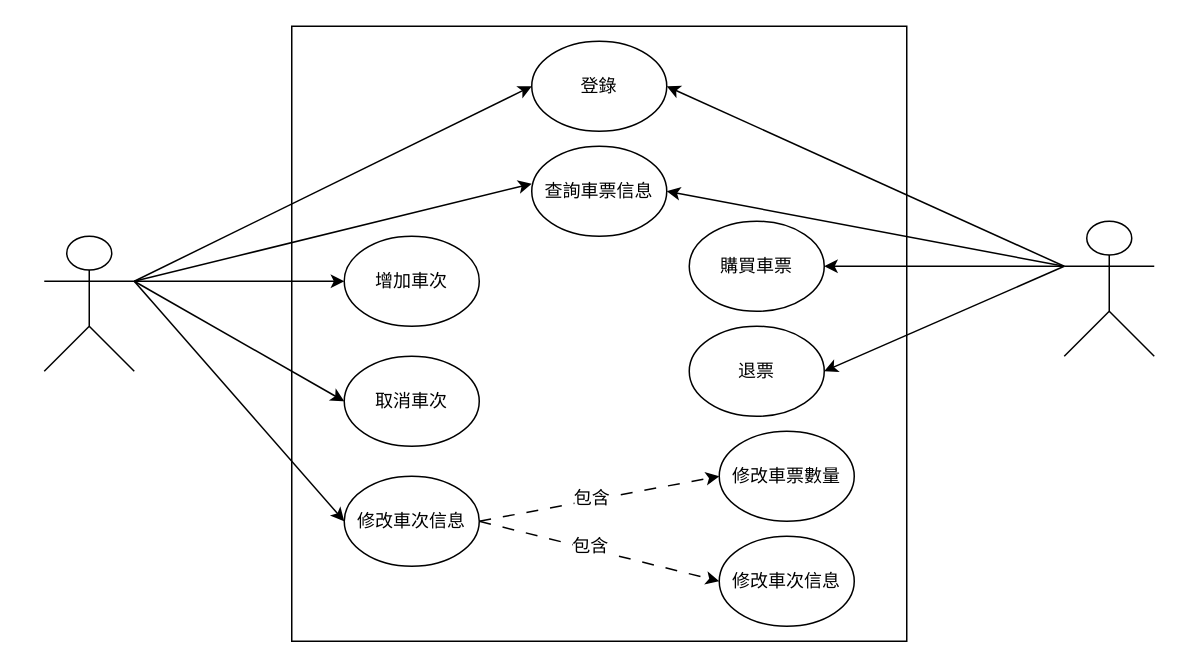
Image size: 1181x668. Some labels were removed from this diagram. Here are the shapes that lost their labels. From the top down, the centre of each, then its label:
point 88,303: 售票系統管理員
point 1108,288: 乘客
